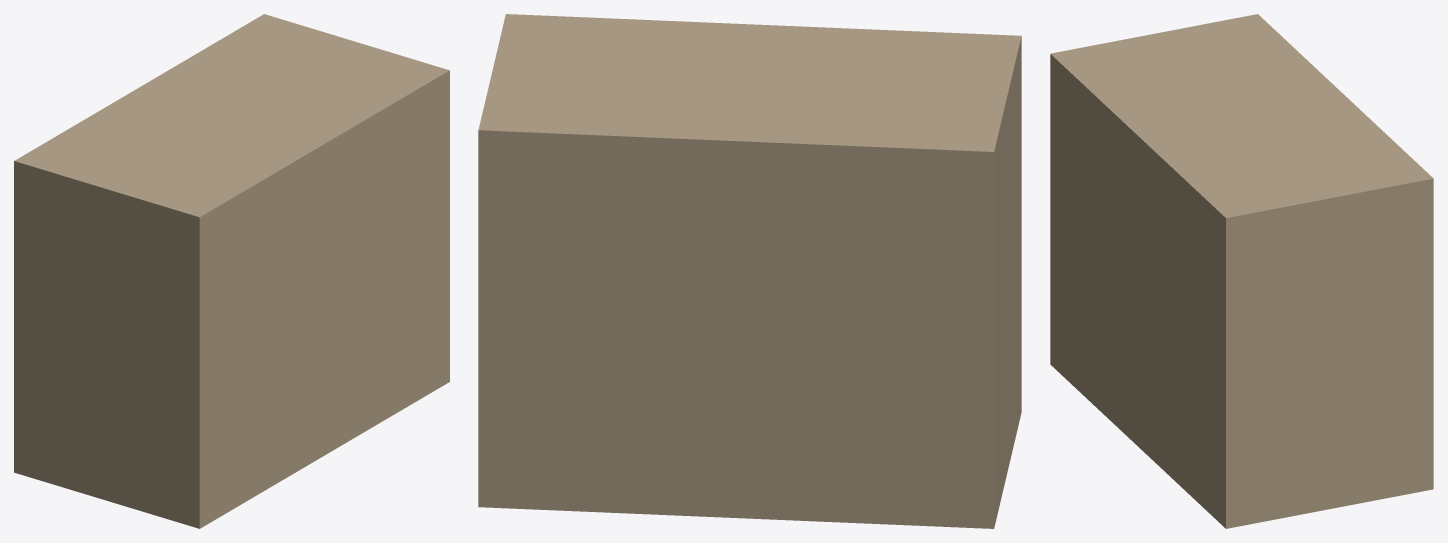
Rendered from bld_163484369.dae.
3 renders of one model, left to right at view 1: azimuth 30°, elevation 25°; view 2: azimuth 150°, elevation 25°; view 3: azimuth 270°, elevation 25°, orthographic. The views are drawn at different scales.
Visible parts, largest first — view 1: bld_163484369; view 2: bld_163484369; view 3: bld_163484369.
Part boxes in pixels (<box>): bld_163484369: <box>14,14,449,528</box>; bld_163484369: <box>478,14,1021,528</box>; bld_163484369: <box>1050,14,1433,528</box>.
Bounding box in the file's own units: 11.27 × 8.95 × 8.
